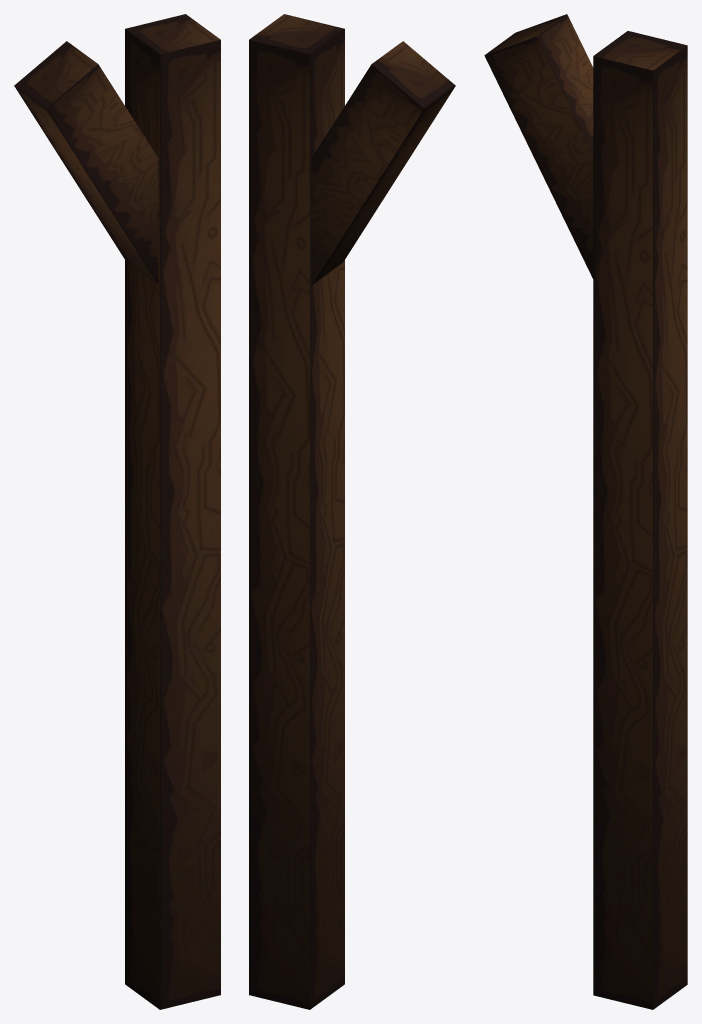
The model's file is pilar6.gltf.
3 views of the same model, side by side, from view 1: azimuth 30°, elevation 25°; view 2: azimuth 150°, elevation 25°; view 3: azimuth 330°, elevation 25° (orthographic).
Visible parts, largest first — view 1: SM_MERGED_StaticMeshActor_UAID_581122BC10809A3702_1861120758; view 2: SM_MERGED_StaticMeshActor_UAID_581122BC10809A3702_1861120758; view 3: SM_MERGED_StaticMeshActor_UAID_581122BC10809A3702_1861120758.
Part boxes in pixels (x1,y1,x2,y2): SM_MERGED_StaticMeshActor_UAID_581122BC10809A3702_1861120758: (14, 14, 220, 1009); SM_MERGED_StaticMeshActor_UAID_581122BC10809A3702_1861120758: (249, 14, 455, 1009); SM_MERGED_StaticMeshActor_UAID_581122BC10809A3702_1861120758: (484, 14, 687, 1009).
Size of the model in its own units: 2.85 by 15.06 by 1.
Materials: 1 (1 with a texture image).
